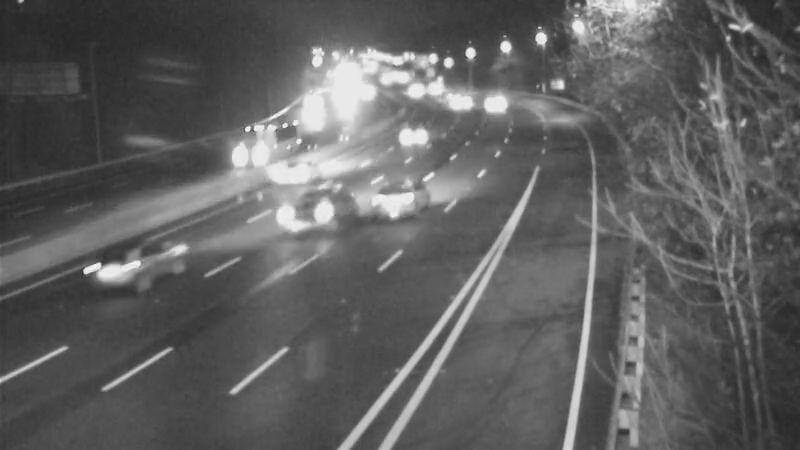vehicle: (245, 138, 325, 218), (361, 149, 441, 229), (264, 173, 344, 253), (202, 119, 282, 199), (407, 63, 457, 113), (390, 63, 440, 113), (425, 70, 475, 120), (462, 84, 512, 134), (439, 82, 489, 132), (388, 107, 438, 157), (280, 84, 330, 134)
